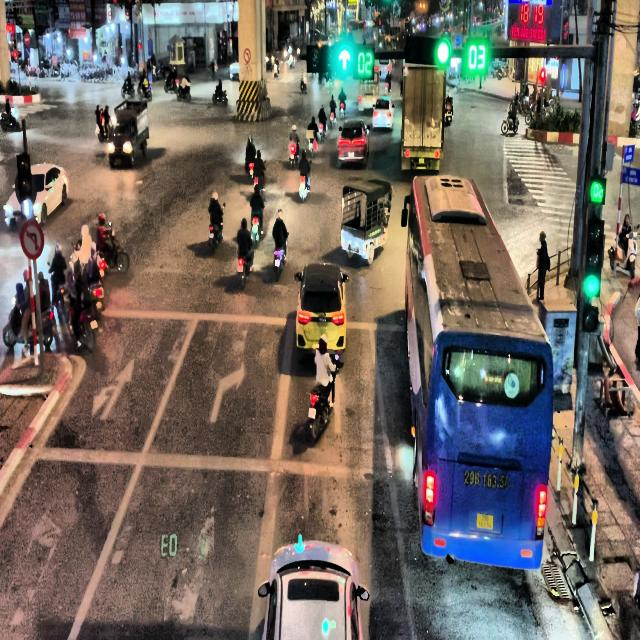lisence_plate: (461, 466, 511, 492), (475, 511, 494, 531)
